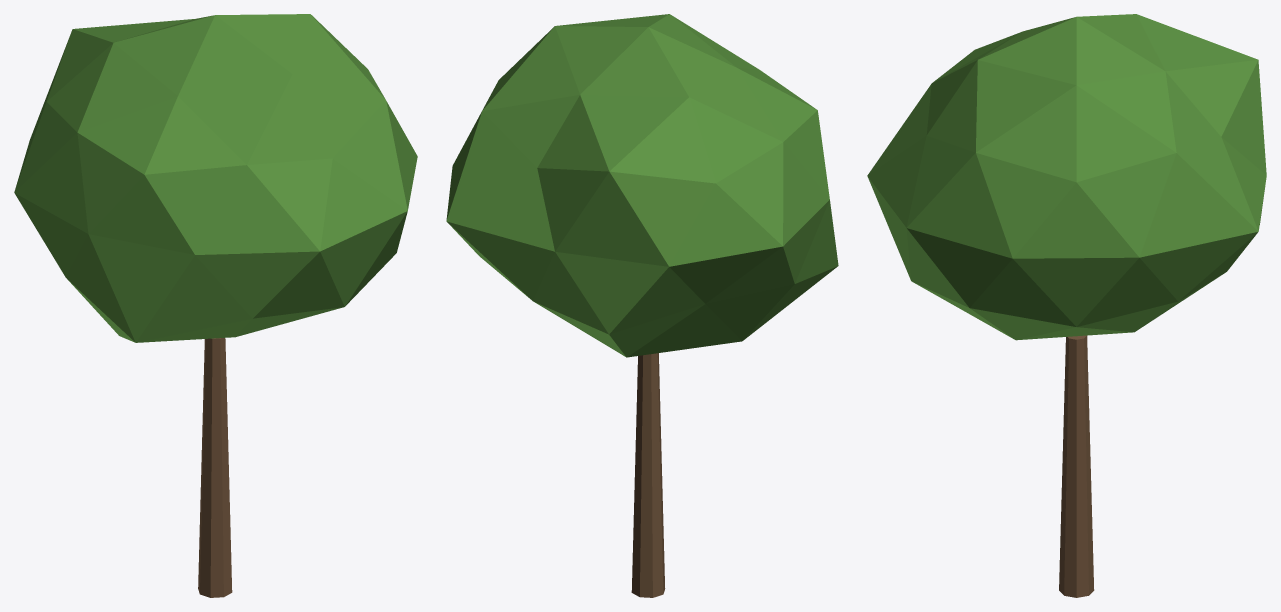
The model's file is listnac.glb.
3 renders of one model, left to right at view 1: azimuth 30°, elevation 25°; view 2: azimuth 150°, elevation 25°; view 3: azimuth 270°, elevation 25°, orthographic. The views are drawn at different scales.
Visible parts, largest first — view 1: listnac; view 2: listnac; view 3: listnac.
Part boxes in pixels (x1,y1,x2,y2): listnac: (14, 14, 417, 597); listnac: (446, 14, 838, 597); listnac: (867, 14, 1266, 597).
Size of the model in its own units: 0.6177 by 1 by 0.631.
